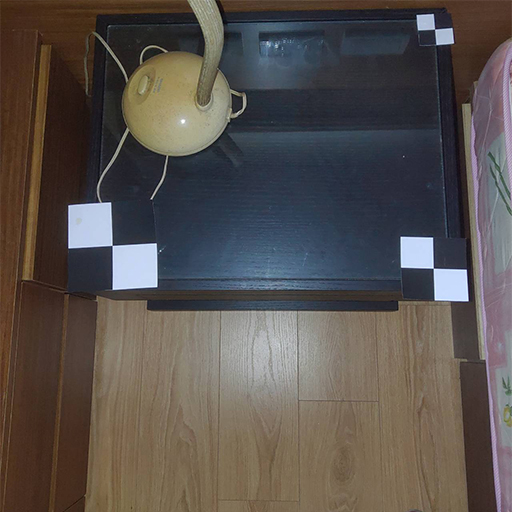方標: (67, 201, 157, 292), (398, 234, 471, 303), (417, 11, 455, 48)
